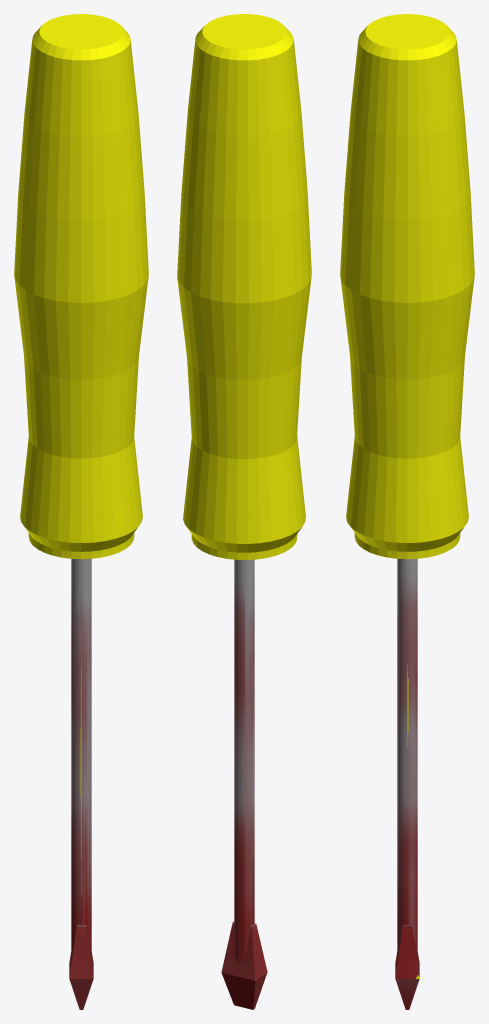
File: Screw_Driver (1).fbx
3 renders of one model, left to right at view 1: azimuth 90°, elevation 25°; view 2: azimuth 150°, elevation 25°; view 3: azimuth 270°, elevation 25°, orthographic.
Parts seen in each view (by area): view 1: Cylinder; view 2: Cylinder; view 3: Cylinder.
Boxes of the visible parts, x1,y1,x2,y2 form: Cylinder: (14, 14, 148, 1009); Cylinder: (177, 14, 311, 1009); Cylinder: (340, 14, 474, 1009).
Size of the model in its own units: 274 by 2182 by 274.
1 material, 1 textured.
